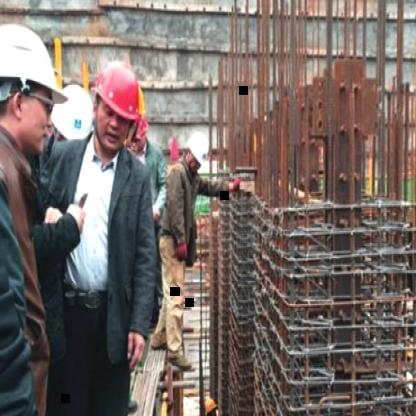helmet: (0, 20, 70, 103), (90, 58, 143, 127)
